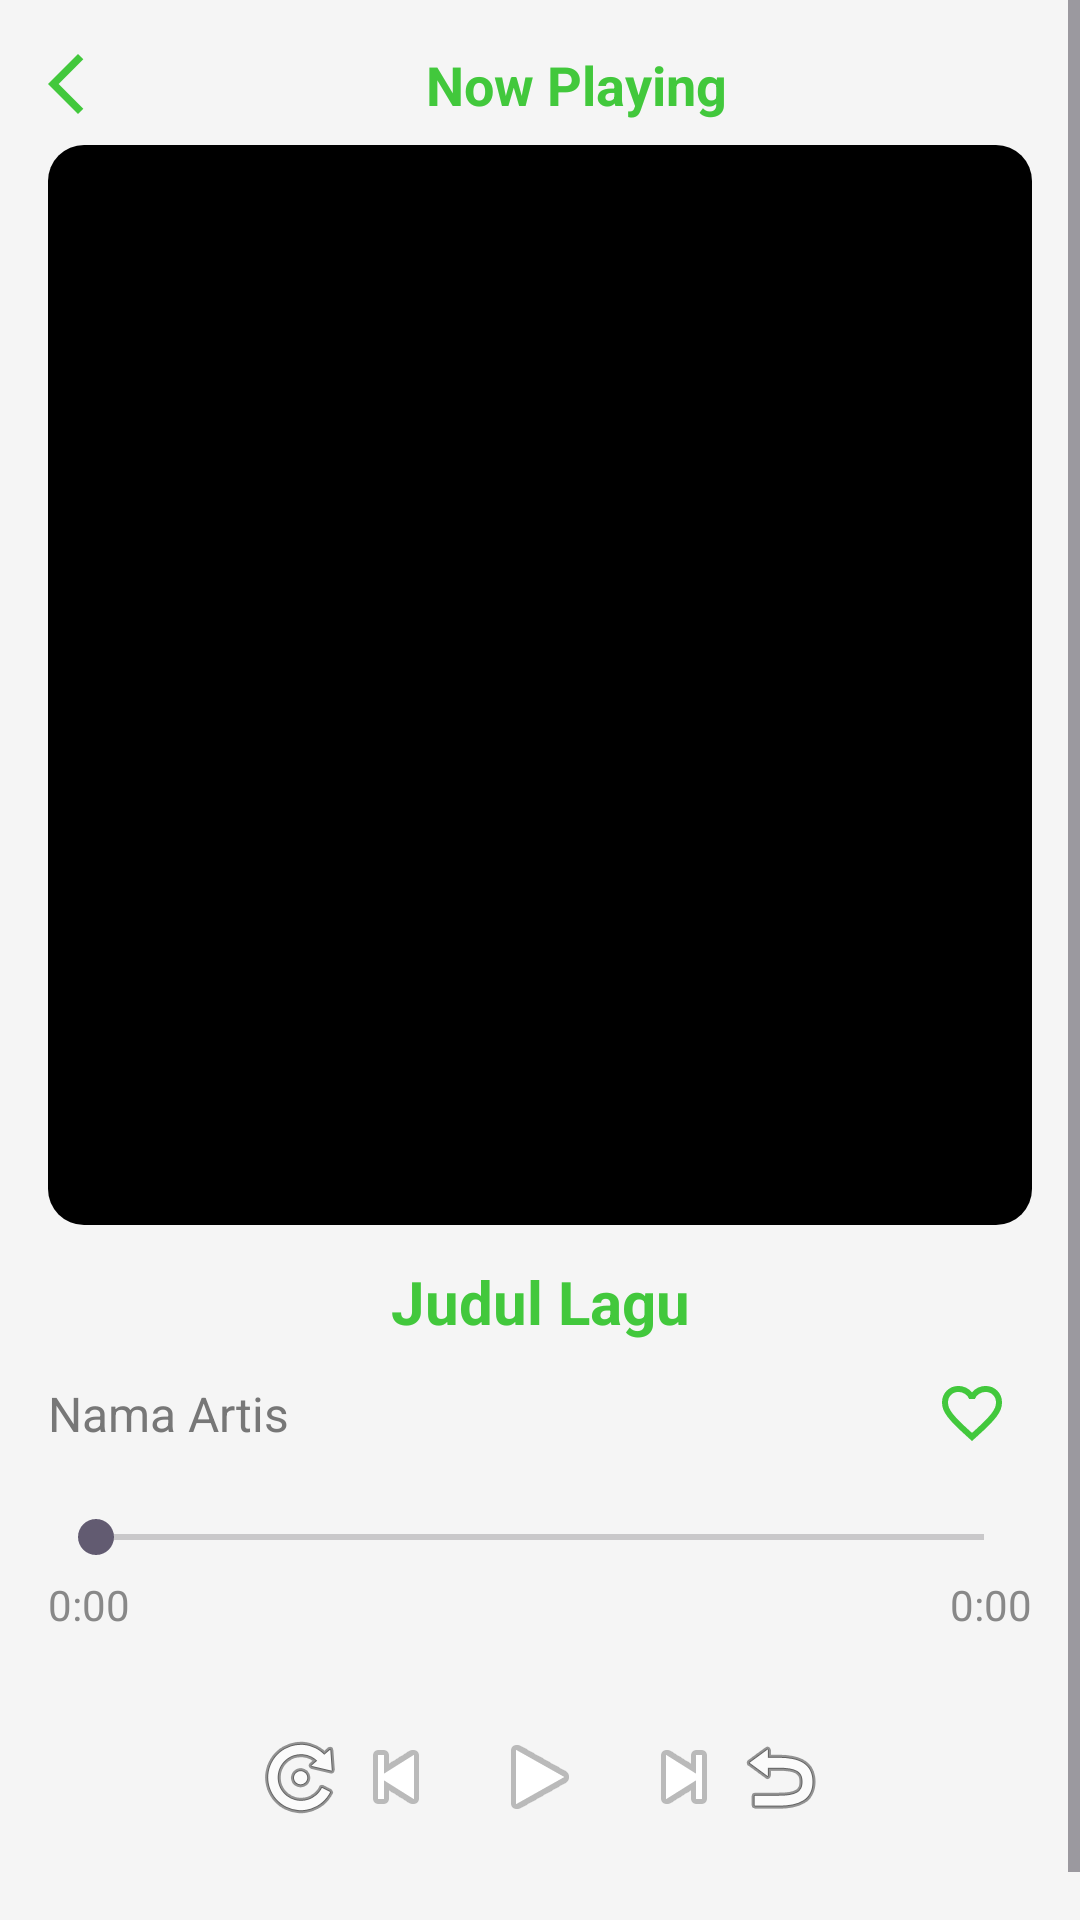

Screen size 1080px x 1920px. Icon name, then its box in pixels as (x1, y1, x2, y2):
Back: (48, 54, 83, 114)
Favorite Button: (942, 1386, 1002, 1441)
Next: (661, 1750, 707, 1804)
Play or Pause: (511, 1745, 569, 1809)
Previous: (373, 1750, 419, 1804)
